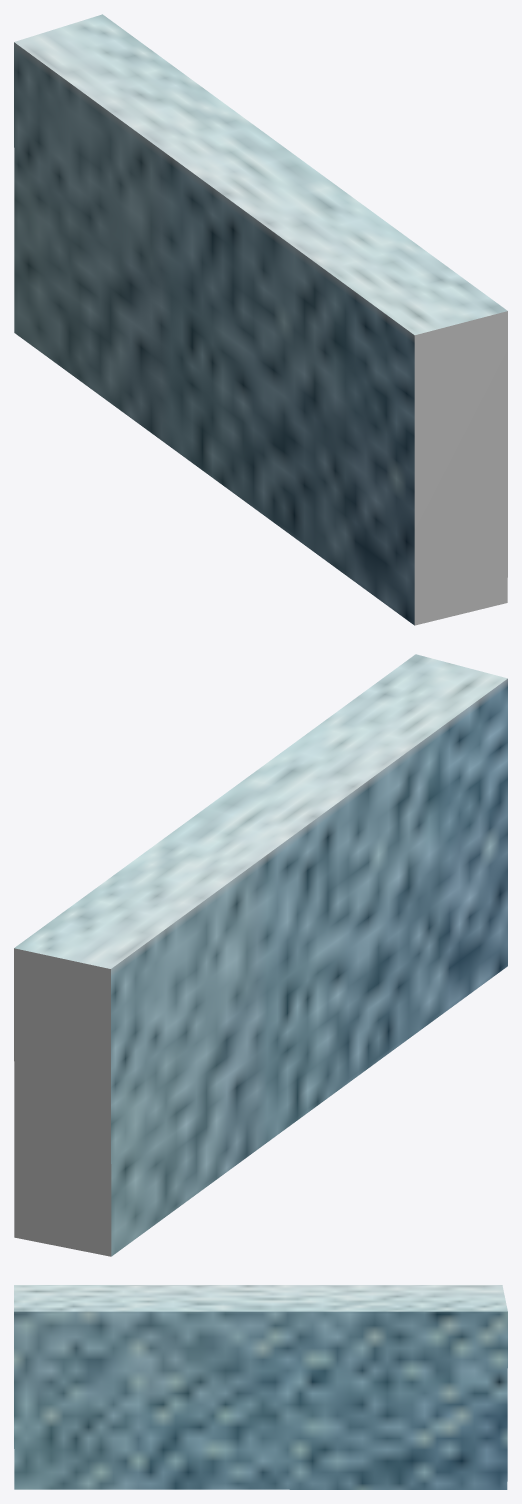
3 views of the same model, one above another, from view 1: azimuth 30°, elevation 25°; view 2: azimuth 150°, elevation 25°; view 3: azimuth 270°, elevation 25° (orthographic). The views are drawn at different scales.
Visible parts, largest first — view 1: Cube_cell.003_Mesh.003; view 2: Cube_cell.003_Mesh.003; view 3: Cube_cell.003_Mesh.003.
Part boxes in pixels (x1,y1,x2,y2): Cube_cell.003_Mesh.003: (14,14,507,625); Cube_cell.003_Mesh.003: (14,654,507,1256); Cube_cell.003_Mesh.003: (14,1285,507,1489).
Bounding box in the file's own units: 0.0832 × 0.2493 × 0.6265.
